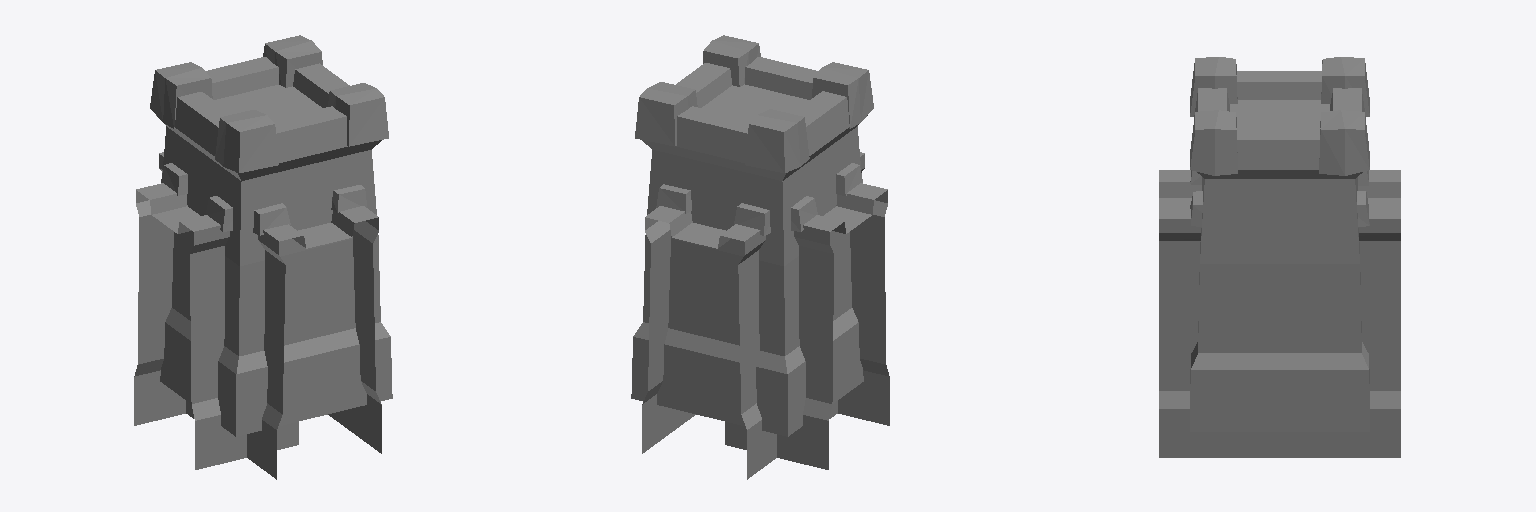
File: StoneWall_B.obj
3 renders of one model, left to right at view 1: azimuth 30°, elevation 25°; view 2: azimuth 150°, elevation 25°; view 3: azimuth 270°, elevation 25°, orthographic.
Parts seen in each view (by area): view 1: Wall_B_Mesh.019; view 2: Wall_B_Mesh.019; view 3: Wall_B_Mesh.019.
Part boxes in pixels (left/top/right/bottom): Wall_B_Mesh.019: left=134, top=35, right=392, bottom=479; Wall_B_Mesh.019: left=631, top=35, right=889, bottom=479; Wall_B_Mesh.019: left=1159, top=57, right=1400, bottom=457.
Size of the model in its own units: 3.5 by 6.22 by 4.